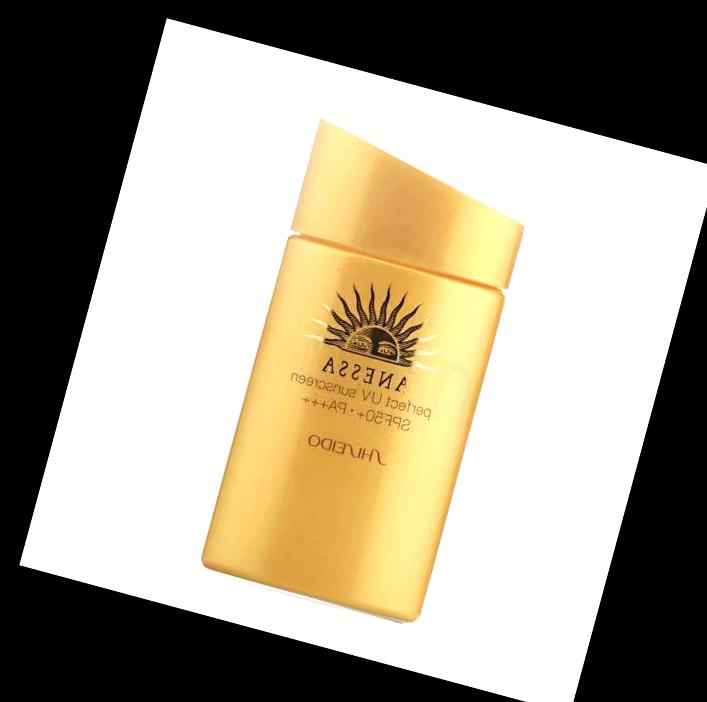cosmetic: (198, 103, 539, 623)
